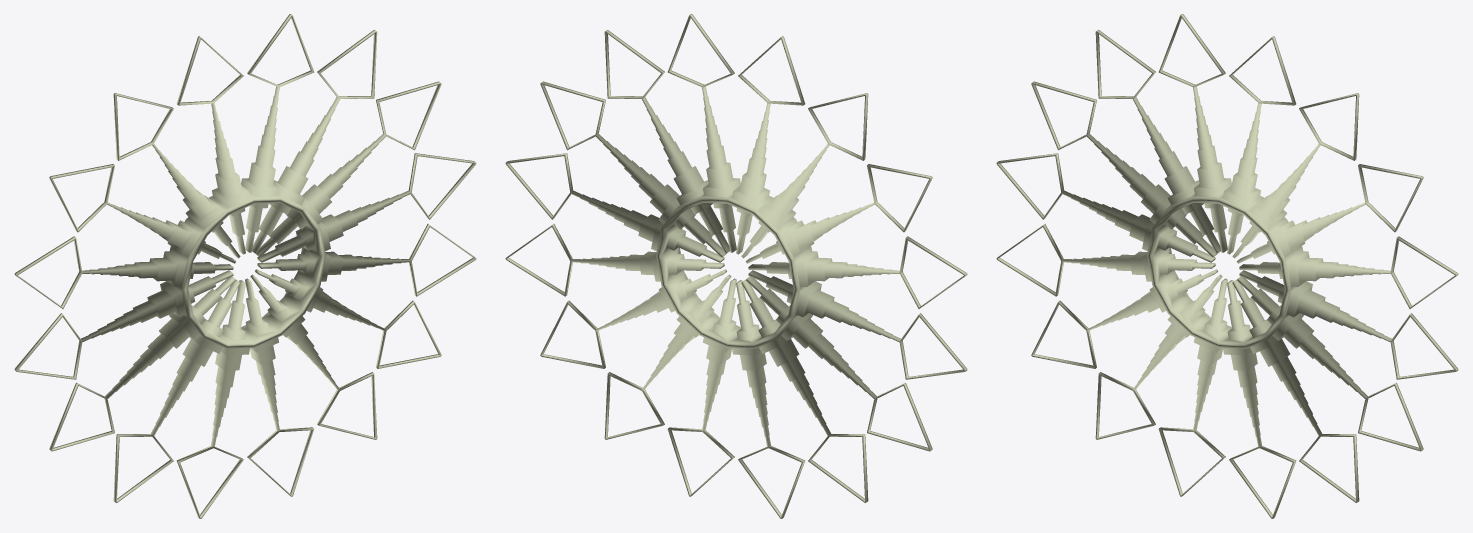
Rendered from danishCookie_boxes.obj.
3 views of the same model, side by side, from view 1: azimuth 30°, elevation 25°; view 2: azimuth 150°, elevation 25°; view 3: azimuth 330°, elevation 25° (orthographic).
Visible parts, largest first — view 1: cylinder1; view 2: cylinder1; view 3: cylinder1.
Part boxes in pixels (x1,y1,x2,y2): cylinder1: [14, 14, 476, 518]; cylinder1: [505, 14, 967, 518]; cylinder1: [996, 14, 1458, 518].
Bounding box in the file's own units: 6.41 × 6.41 × 0.424.
